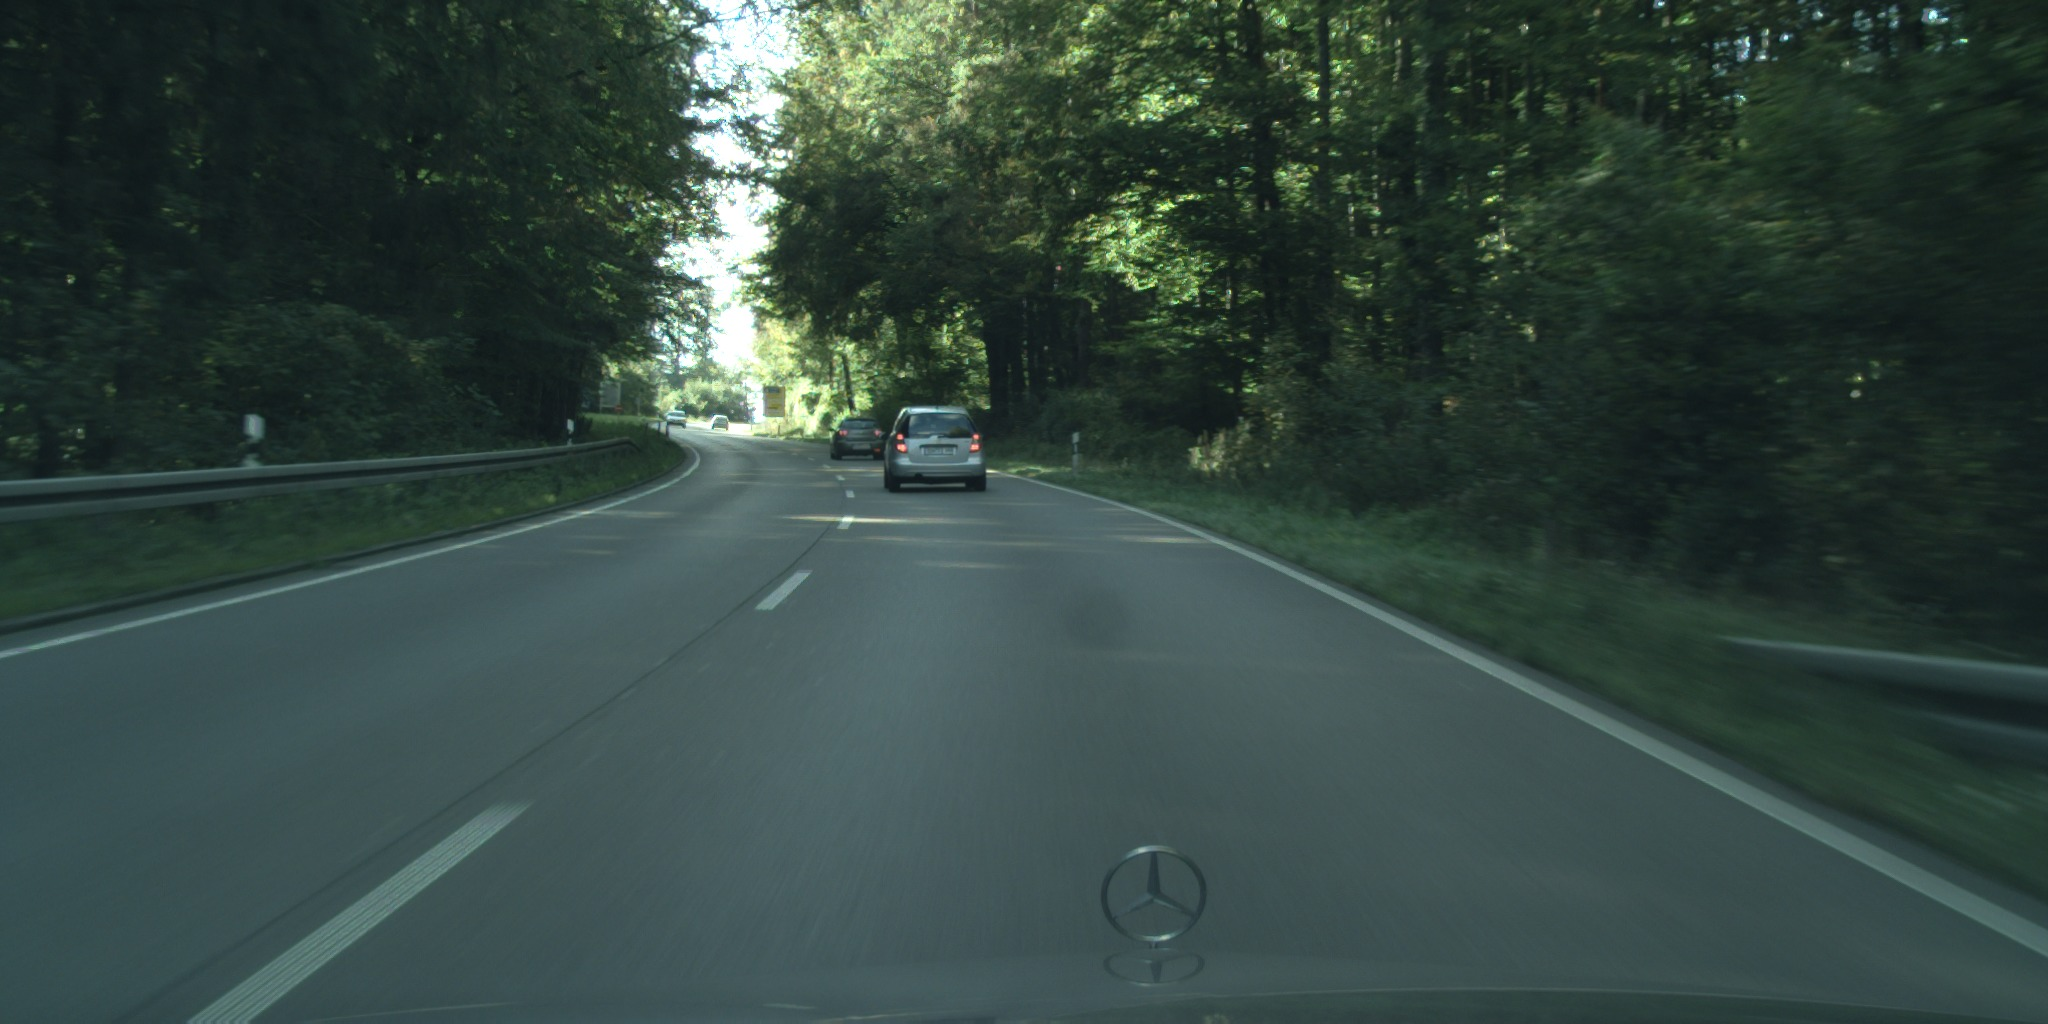car: (879, 405, 987, 492), (828, 418, 886, 460), (666, 409, 686, 427), (711, 415, 729, 428)
